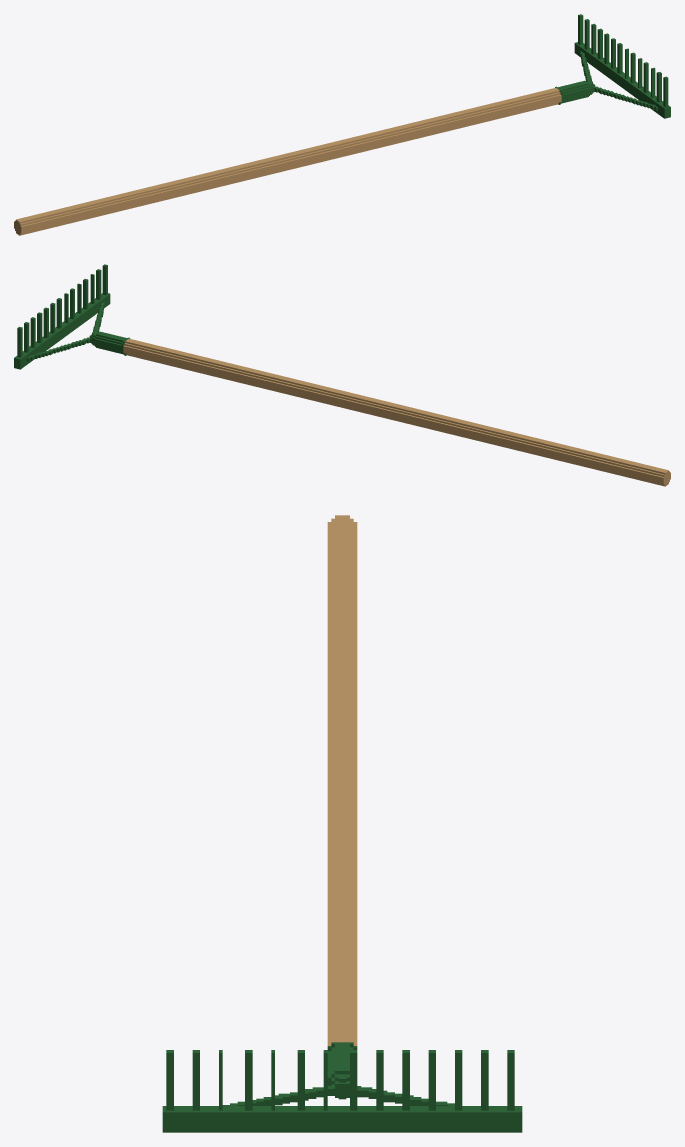
The model's file is rake.glb.
3 views of the same model, one above another, from view 1: azimuth 30°, elevation 25°; view 2: azimuth 150°, elevation 25°; view 3: azimuth 270°, elevation 25° (orthographic). The views are drawn at different scales.
Visible parts, largest first — view 1: rake:compound; view 2: rake:compound; view 3: rake:compound.
Boxes of the visible parts, <box> form: rake:compound: <box>14,14,670,235</box>; rake:compound: <box>14,264,670,486</box>; rake:compound: <box>162,515,522,1132</box>.
Bounding box in the file's own units: 1.5 × 0.096 × 0.384.
